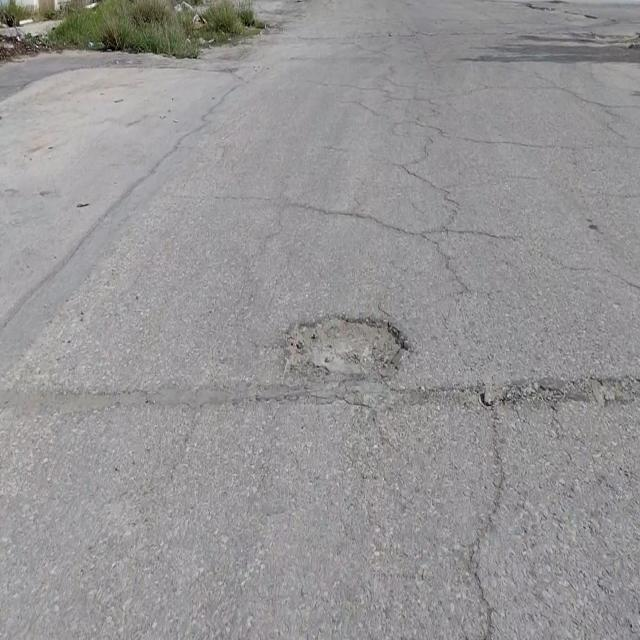Potholes: (284, 307, 411, 385)
